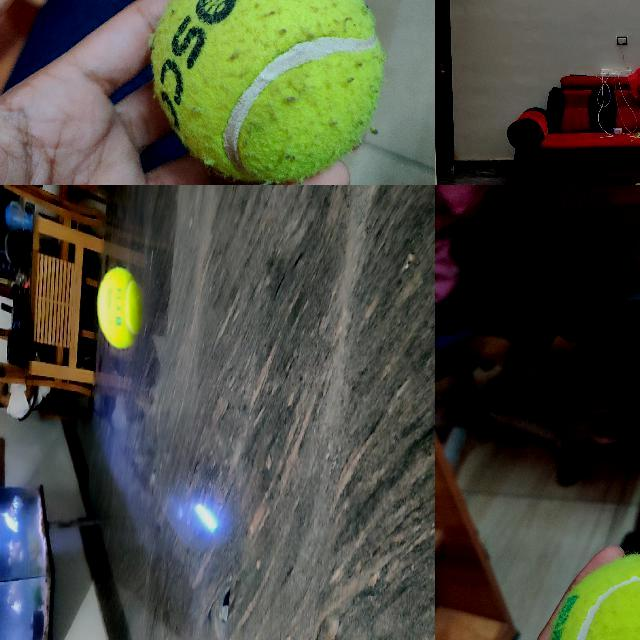Tennis Ball: (149, 0, 384, 184), (96, 267, 143, 350)
